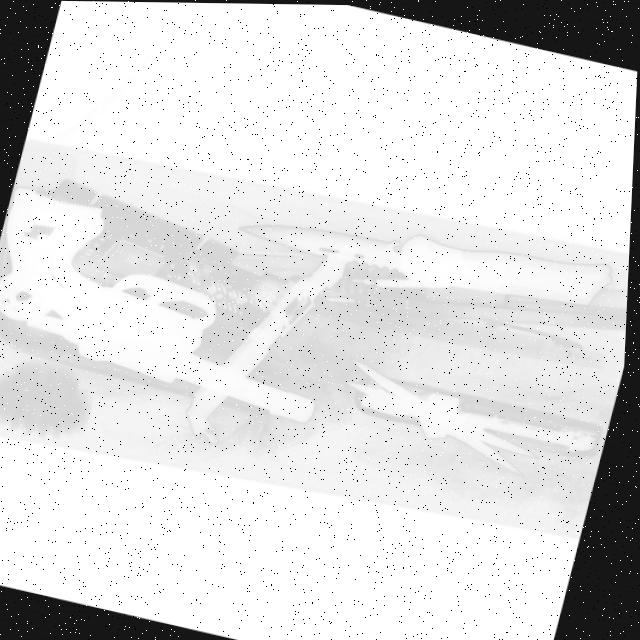knife: (234, 176, 619, 322)
pistol: (0, 182, 357, 422)
